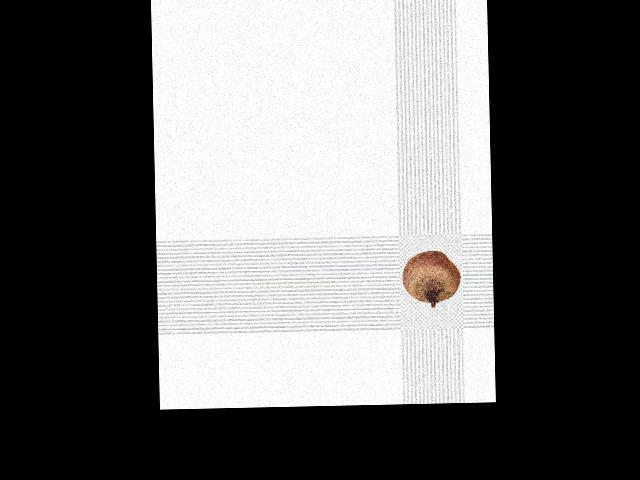beet: (402, 250, 461, 308)
